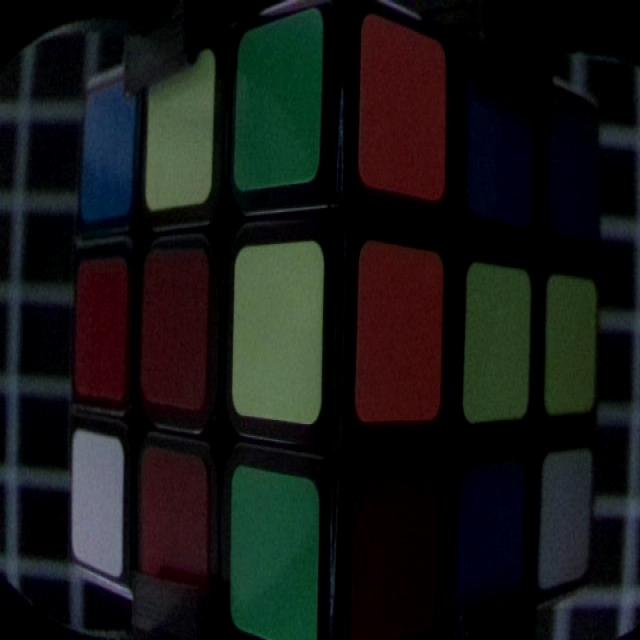b: (470, 69, 531, 215), (460, 471, 528, 596), (81, 80, 135, 221), (550, 104, 598, 240)
g: (231, 10, 321, 186), (235, 468, 318, 637)
o: (363, 26, 445, 202), (359, 246, 442, 416)
r: (367, 470, 445, 606), (145, 454, 209, 602), (145, 256, 206, 409), (74, 265, 128, 401)
w: (74, 435, 125, 570), (540, 455, 591, 588)
y: (236, 244, 324, 417), (146, 56, 215, 207), (467, 263, 529, 417), (549, 273, 596, 411)
